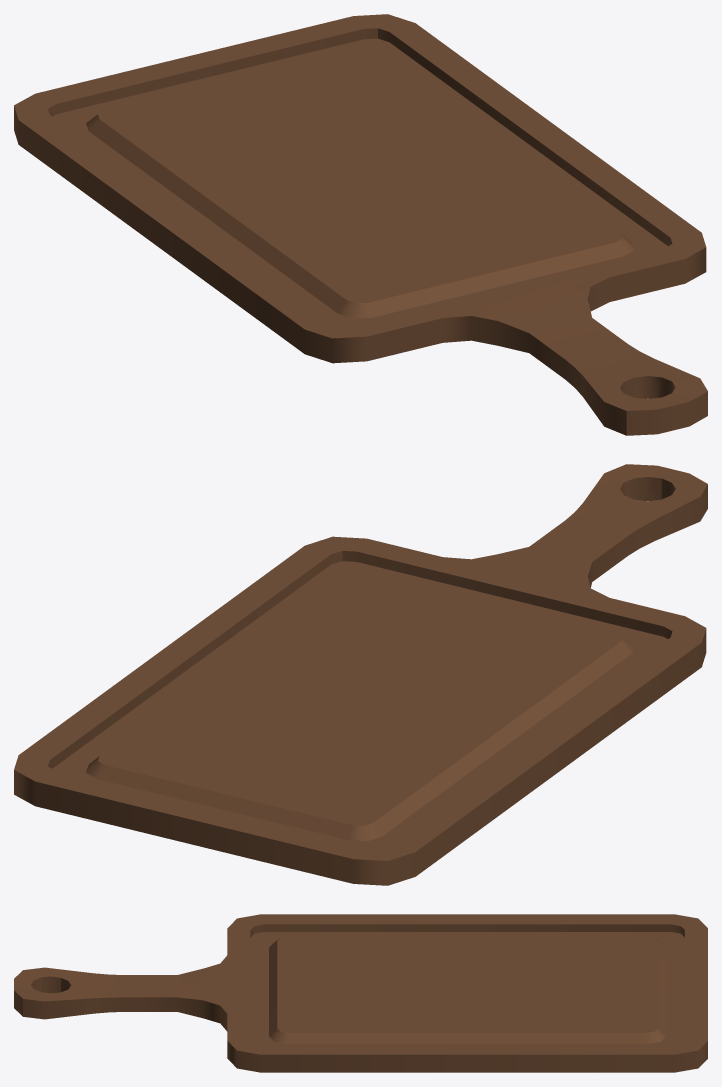
File: SM_cuttingBoard.fbx
3 renders of one model, top to bottom at view 1: azimuth 30°, elevation 25°; view 2: azimuth 150°, elevation 25°; view 3: azimuth 270°, elevation 25°, orthographic. The views are drawn at different scales.
Visible parts, largest first — view 1: SM_cuttingBoard; view 2: SM_cuttingBoard; view 3: SM_cuttingBoard.
Part boxes in pixels (left/top/right/bottom): SM_cuttingBoard: left=14, top=14, right=707, bottom=435; SM_cuttingBoard: left=14, top=464, right=707, bottom=885; SM_cuttingBoard: left=14, top=914, right=707, bottom=1072.
Size of the model in its own units: 34.64 by 2.07 by 72.42.
